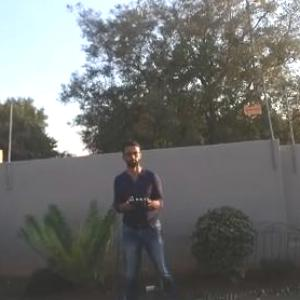follow: (109, 133, 180, 299)
